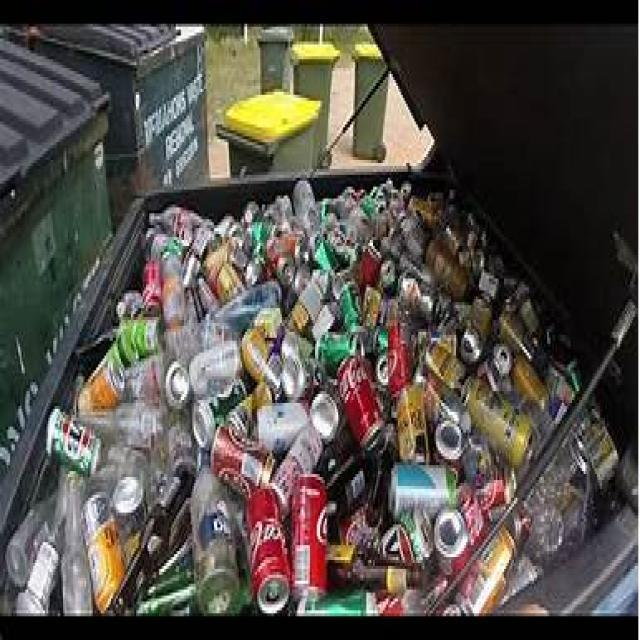Garbage: (5, 176, 619, 615)
Glass_bottle: (48, 407, 184, 509), (109, 458, 195, 614), (341, 422, 398, 565), (191, 465, 239, 614), (329, 558, 448, 602), (16, 512, 65, 617), (5, 494, 56, 587), (296, 585, 438, 617), (61, 471, 92, 617), (314, 237, 361, 333), (326, 451, 374, 543), (136, 545, 195, 617), (80, 402, 162, 449), (212, 281, 281, 333), (165, 319, 239, 366), (316, 413, 356, 482), (149, 206, 202, 248), (116, 317, 159, 366), (292, 179, 320, 252), (168, 404, 196, 471), (124, 355, 161, 404), (242, 201, 274, 254), (142, 228, 161, 313), (191, 275, 219, 322), (565, 357, 581, 393), (372, 326, 388, 355)
Metal: (116, 290, 144, 319), (196, 448, 211, 474)
Plastic: (449, 188, 456, 201)
can: (525, 407, 619, 564), (319, 179, 411, 267), (462, 378, 532, 468), (245, 487, 290, 614), (455, 527, 515, 615), (82, 491, 125, 613), (270, 422, 322, 518), (460, 255, 504, 365), (462, 433, 516, 519), (211, 427, 275, 498), (291, 474, 328, 596), (338, 355, 384, 451), (389, 462, 459, 519), (492, 302, 548, 373), (192, 378, 246, 451), (409, 192, 465, 255), (511, 353, 551, 439), (252, 400, 309, 456), (151, 235, 185, 328), (189, 340, 242, 398), (112, 476, 145, 567), (380, 509, 434, 564), (241, 328, 281, 400), (431, 509, 471, 581), (225, 380, 272, 440), (425, 373, 471, 433), (478, 344, 520, 409), (425, 237, 469, 299), (290, 268, 330, 335), (396, 384, 429, 462), (204, 243, 244, 304), (459, 228, 505, 281), (425, 333, 465, 391), (280, 331, 312, 400), (499, 554, 540, 605), (182, 223, 212, 288), (388, 317, 412, 398), (432, 418, 465, 475), (458, 482, 486, 546), (229, 235, 262, 288), (546, 364, 575, 424), (399, 275, 434, 322), (315, 331, 356, 371), (266, 238, 299, 287), (512, 281, 540, 335), (310, 391, 339, 442), (264, 194, 301, 232), (400, 214, 426, 266), (165, 360, 190, 409), (399, 252, 435, 286), (505, 505, 531, 552), (356, 241, 381, 288), (375, 351, 391, 420), (414, 328, 430, 384), (312, 304, 335, 342), (362, 286, 381, 328), (380, 228, 404, 261), (214, 214, 240, 239), (379, 297, 400, 327), (380, 259, 396, 290), (452, 302, 471, 327), (441, 603, 462, 617), (546, 324, 555, 346)
